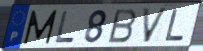8: (83, 9, 107, 45)
B: (107, 8, 138, 44)
L: (163, 8, 186, 43), (54, 10, 76, 44)
M: (22, 9, 60, 46)
V: (141, 8, 170, 45)
